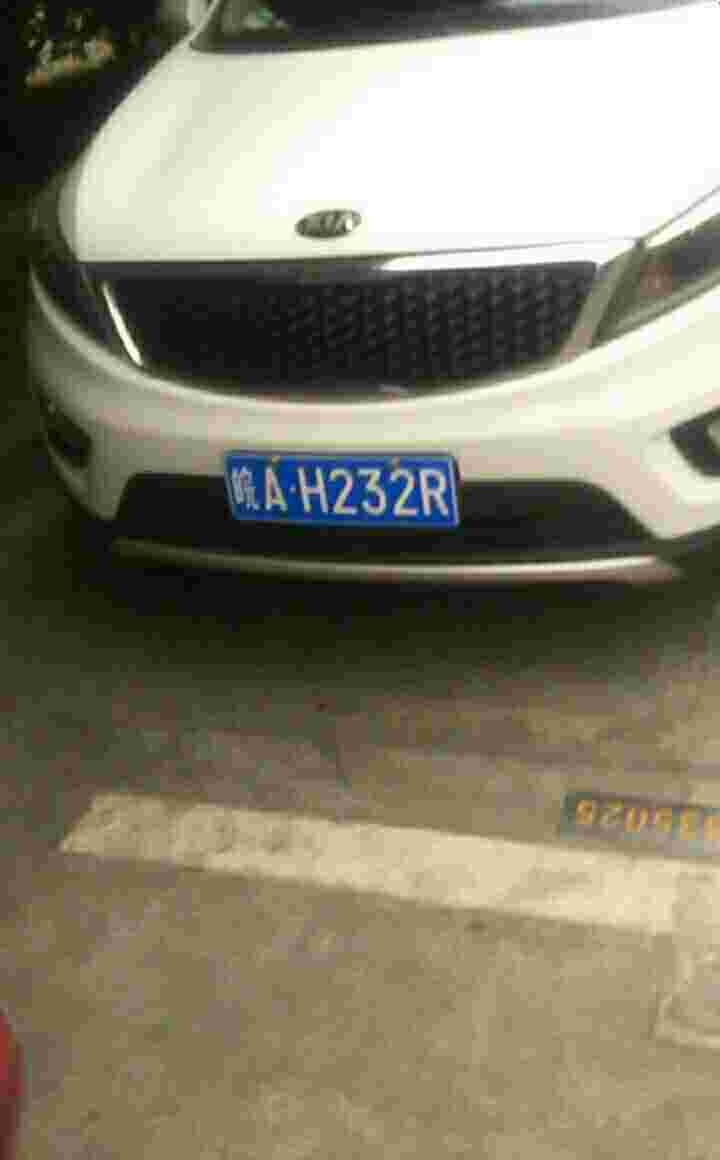license_plate: (234, 451, 456, 536)
